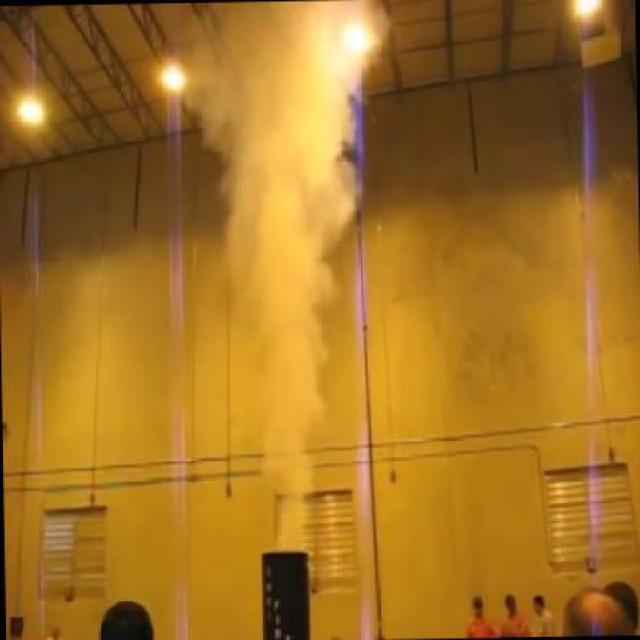fire: (179, 0, 390, 551)
